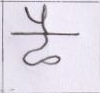ai_matra: (24, 3, 56, 32)
